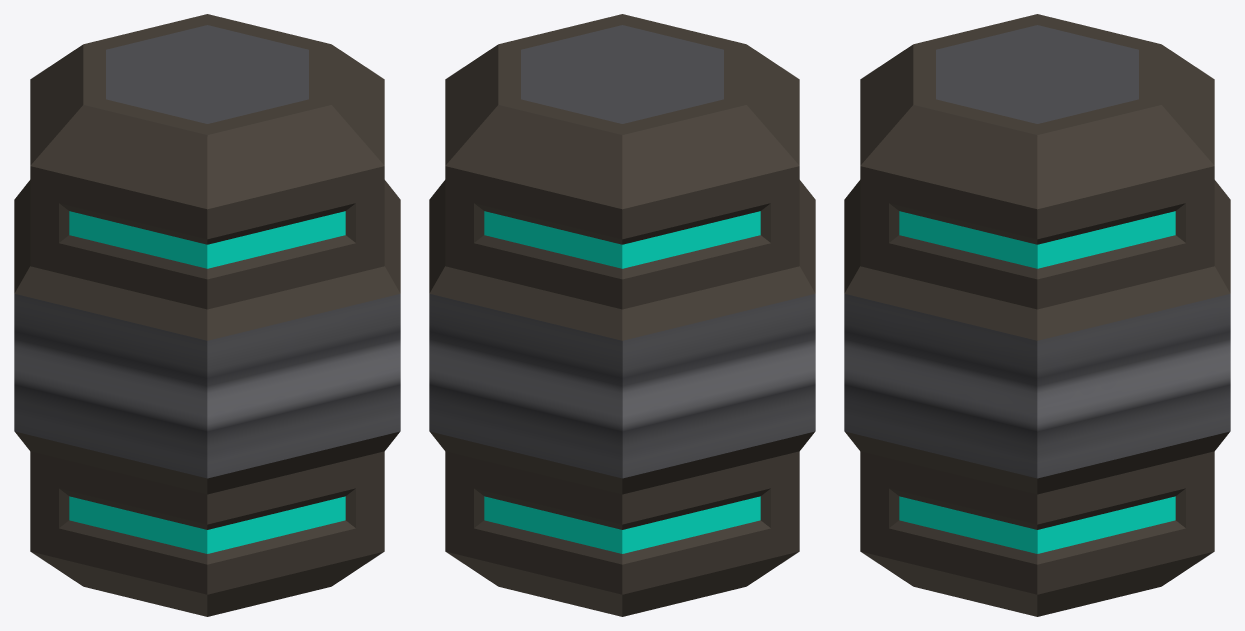
File: SM_Prop_Coupling_01.fbx
The picture shows the model from 3 angles, left to right: view 1: azimuth 30°, elevation 25°; view 2: azimuth 150°, elevation 25°; view 3: azimuth 270°, elevation 25°; orthographic projection.
Visible parts, largest first — view 1: SM_Prop_Coupling_01; view 2: SM_Prop_Coupling_01; view 3: SM_Prop_Coupling_01.
Boxes of the visible parts, box(x1,y1,x2,y2) form: SM_Prop_Coupling_01: box(14, 14, 400, 616); SM_Prop_Coupling_01: box(429, 14, 815, 616); SM_Prop_Coupling_01: box(844, 14, 1230, 616).
Bounding box in the file's own units: 20.15 × 24.04 × 17.45.
